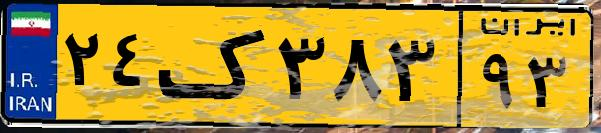2: (57, 26, 110, 100)
3: (270, 28, 330, 110), (385, 28, 445, 110), (525, 38, 570, 115)
4: (110, 28, 158, 98)
8: (330, 28, 385, 110)
9: (475, 38, 525, 113)
ک: (158, 12, 270, 120)
